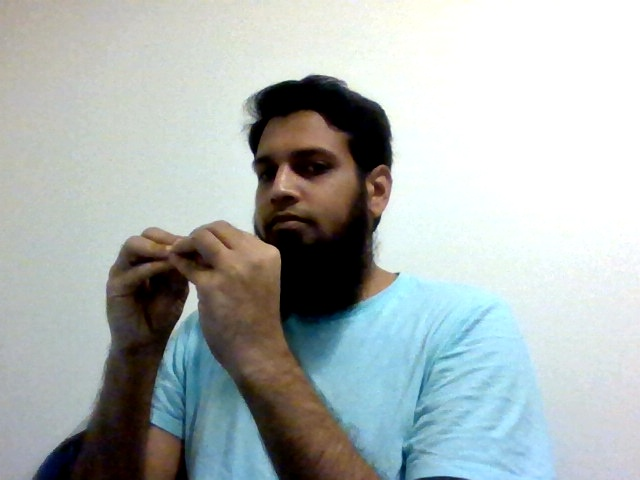more: (103, 219, 287, 369)
